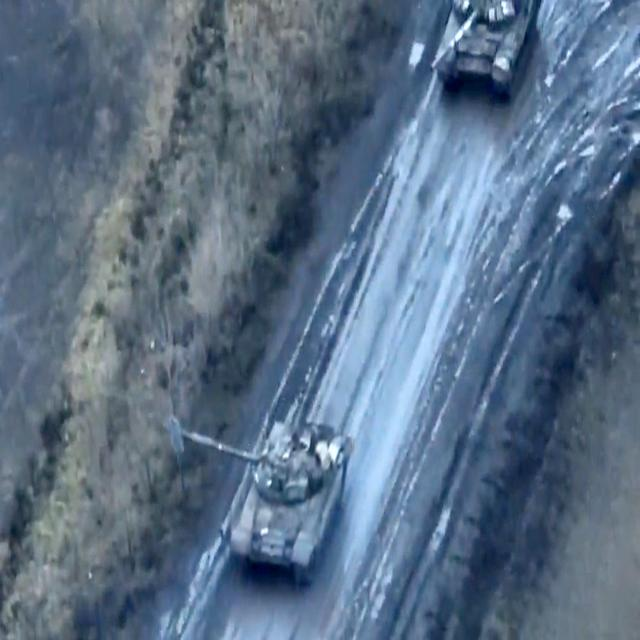tank: (229, 415, 353, 584), (435, 0, 539, 99)
